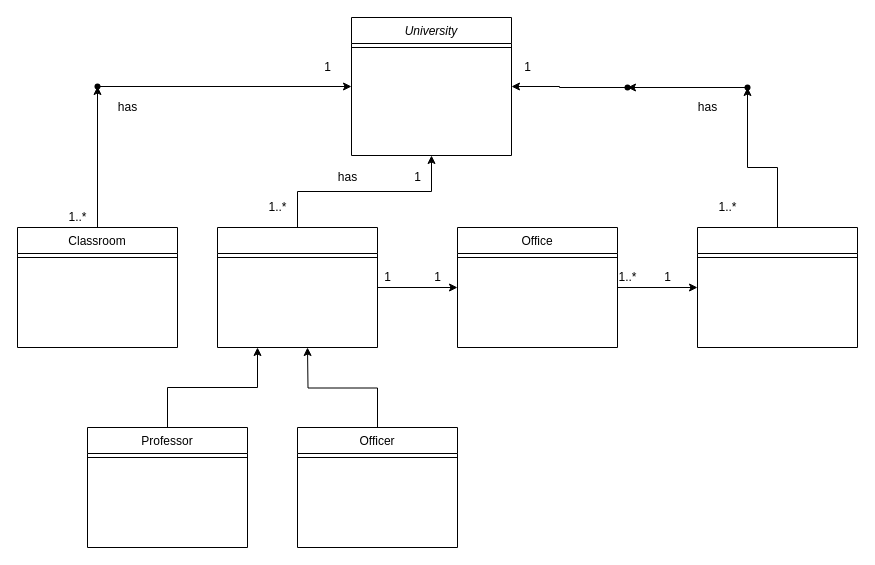
This 875x565 diagram has some shape labels left out. Each missing label, with the centre of its shape:
"Department" goes at (777,287).
"Employee" goes at (297,287).
